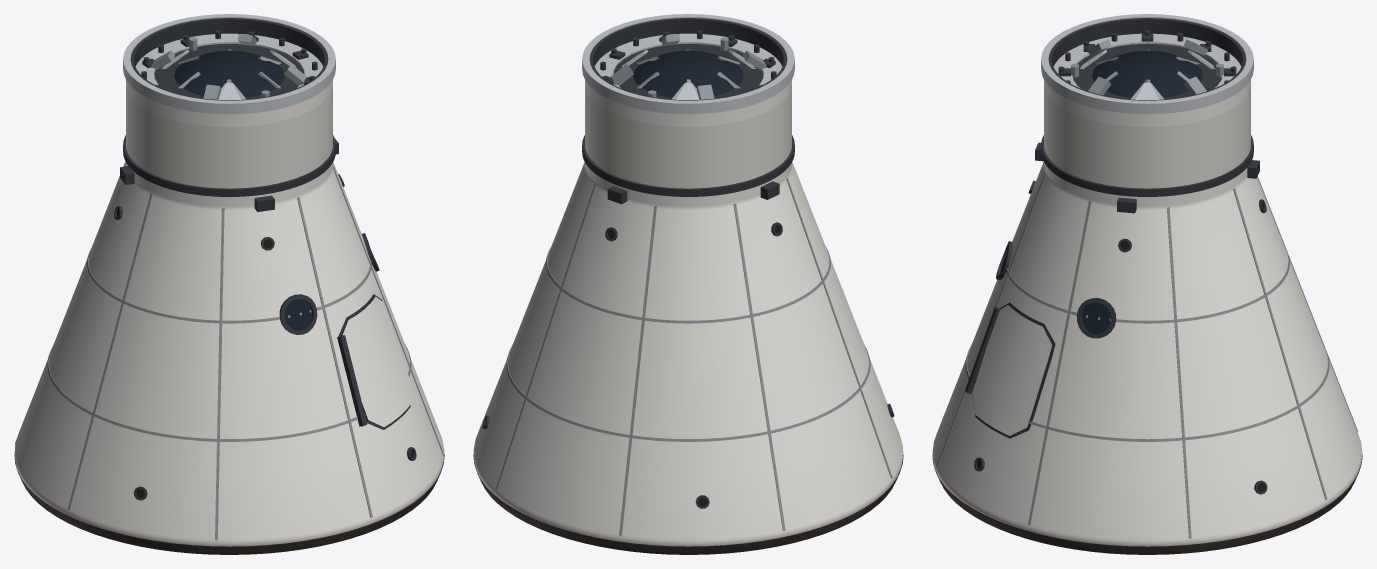
The model's file is capsule_gaganyaan.glb.
The picture shows the model from 3 angles, left to right: view 1: azimuth 30°, elevation 25°; view 2: azimuth 150°, elevation 25°; view 3: azimuth 270°, elevation 25°; orthographic projection.
Visible parts, largest first — view 1: body, slot_windows__cupola, slot_docking__cbm; view 2: body, slot_windows__cupola, slot_docking__cbm; view 3: body, slot_windows__cupola, slot_docking__cbm, slot_docking__ssvp.
Boxes of the visible parts, x1=… form: body: x1=14, y1=14, x2=444, y2=554; slot_windows__cupola: x1=174, y1=49, x2=284, y2=97; slot_docking__cbm: x1=135, y1=30, x2=322, y2=99; body: x1=473, y1=14, x2=903, y2=554; slot_windows__cupola: x1=633, y1=49, x2=743, y2=97; slot_docking__cbm: x1=595, y1=30, x2=782, y2=99; body: x1=932, y1=14, x2=1362, y2=554; slot_windows__cupola: x1=1092, y1=49, x2=1202, y2=97; slot_docking__cbm: x1=1053, y1=30, x2=1240, y2=95; slot_docking__ssvp: x1=1059, y1=33, x2=1235, y2=77.
Size of the model in its own units: 1.87 by 1.95 by 1.87.
Materials: 21 (1 with a texture image).
